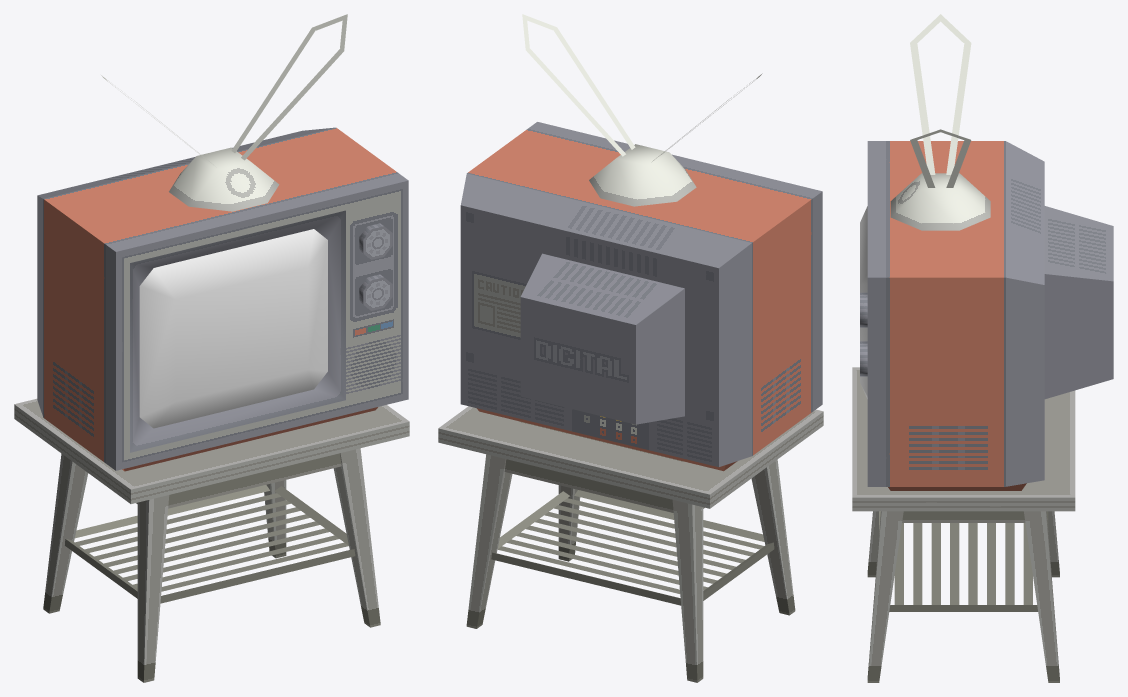
The model's file is 01c6_Color_TV.glb.
3 renders of one model, left to right at view 1: azimuth 30°, elevation 25°; view 2: azimuth 150°, elevation 25°; view 3: azimuth 270°, elevation 25°, orthographic. The views are drawn at different scales.
Visible parts, largest first — view 1: part_0; view 2: part_0; view 3: part_0.
Boxes of the visible parts, box(x1,y1,x2,y2) form: part_0: box(14, 14, 409, 682); part_0: box(438, 14, 823, 682); part_0: box(852, 14, 1113, 682).
Bounding box in the file's own units: 0.42 × 0.7975 × 0.34.
3 materials, 2 textured.
